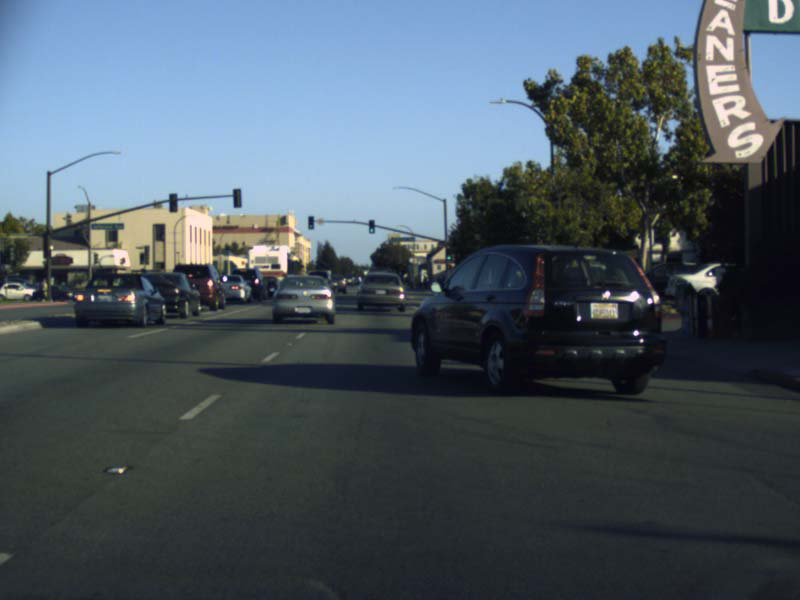Green: (368, 220, 374, 233), (445, 248, 451, 260)
